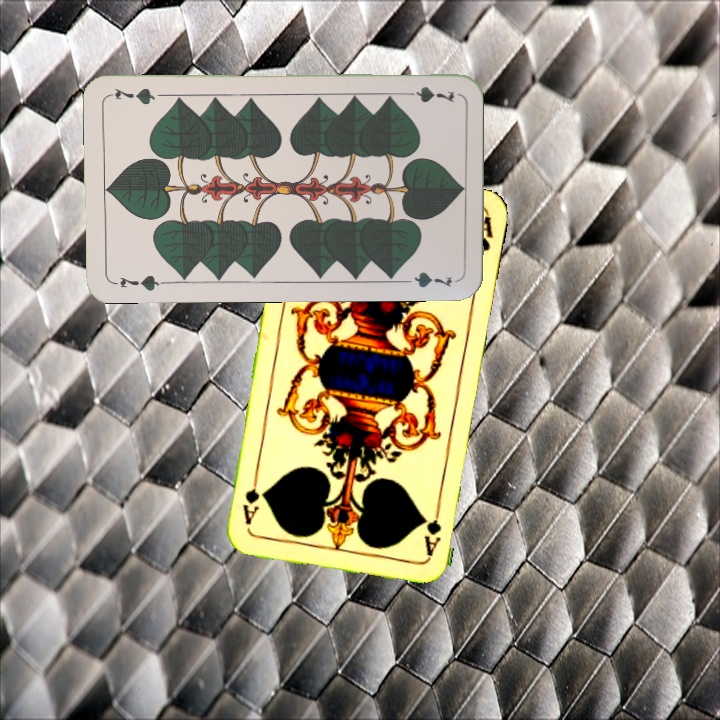G7: (398, 82, 457, 105), (109, 271, 168, 293)
GA: (419, 501, 444, 559)
